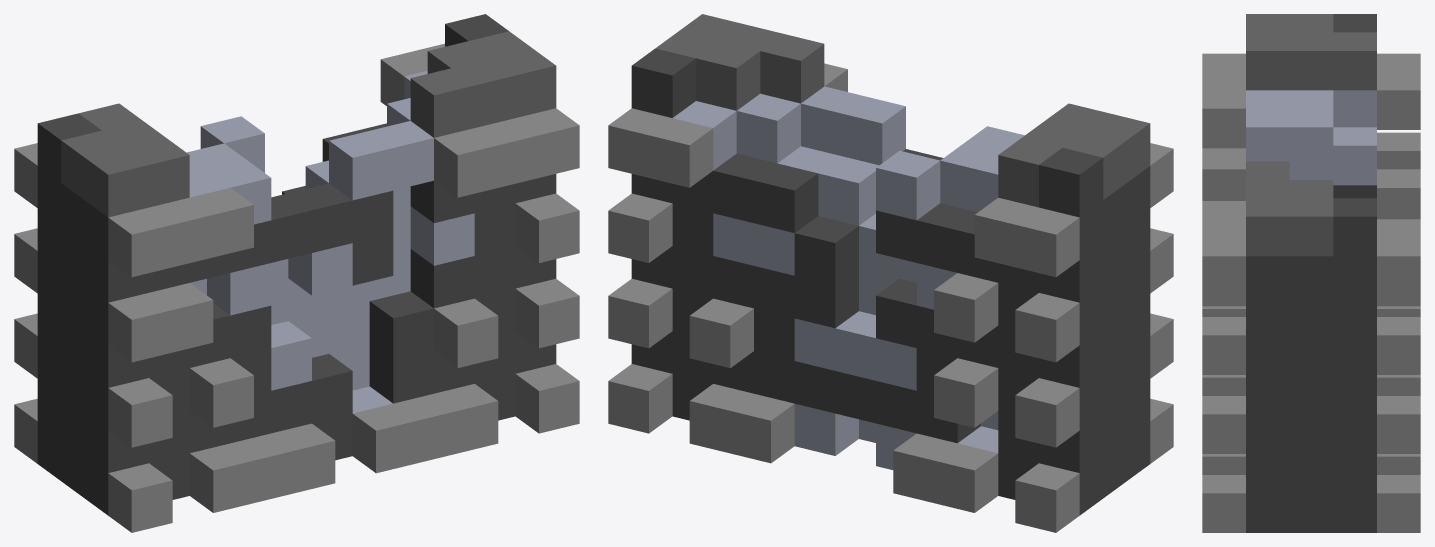
The model's file is Medieval Assets-183-Graveyard - Wall - Degraded.obj.
The picture shows the model from 3 angles, left to right: view 1: azimuth 30°, elevation 25°; view 2: azimuth 150°, elevation 25°; view 3: azimuth 270°, elevation 25°; orthographic projection. The views are drawn at different scales.
Visible parts, largest first — view 1: Graveyard - Wall - Degraded; view 2: Graveyard - Wall - Degraded; view 3: Graveyard - Wall - Degraded.
Part boxes in pixels (x1,y1,x2,y2): Graveyard - Wall - Degraded: (14, 14, 579, 532); Graveyard - Wall - Degraded: (608, 14, 1173, 532); Graveyard - Wall - Degraded: (1202, 14, 1420, 532).
Bounding box in the file's own units: 1.1 × 0.8 × 0.5.
1 material, 1 textured.
